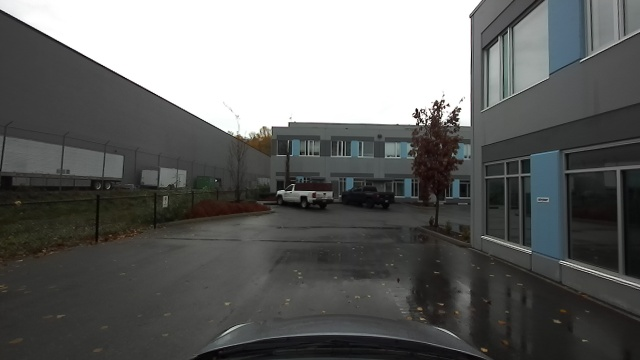car: (274, 183, 336, 213), (340, 182, 394, 212)
